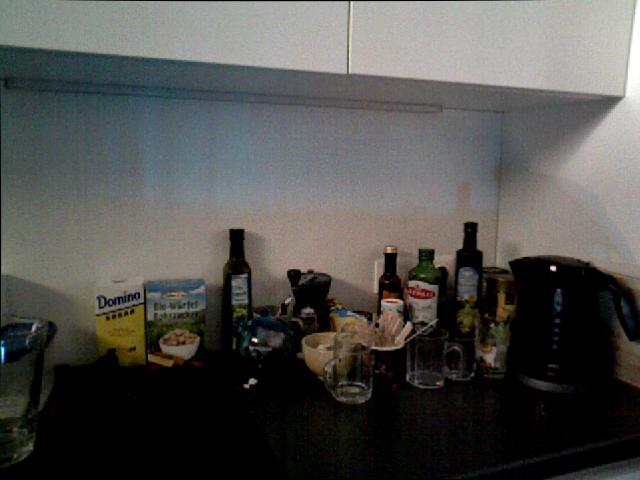bench: (221, 227, 253, 354), (406, 247, 443, 349), (453, 221, 483, 336), (376, 245, 406, 350)
bird: (300, 330, 374, 377), (158, 330, 200, 360)
handbag: (0, 310, 50, 478), (405, 328, 464, 389), (323, 341, 373, 404), (474, 300, 511, 384), (367, 330, 408, 395)
